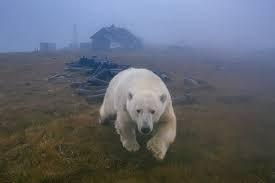bear: (91, 65, 185, 163)
